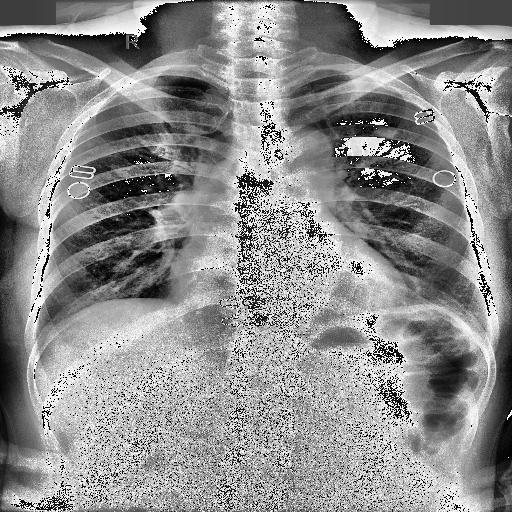0- Aortic enlargement: (271, 122, 339, 192), (268, 124, 332, 172), (278, 124, 334, 167)
3- Cardiomegaly: (168, 250, 408, 310), (168, 265, 404, 317)
8- Nodule-Mass: (368, 123, 402, 142), (374, 124, 400, 140)
9- Other lesion: (372, 128, 400, 140)
